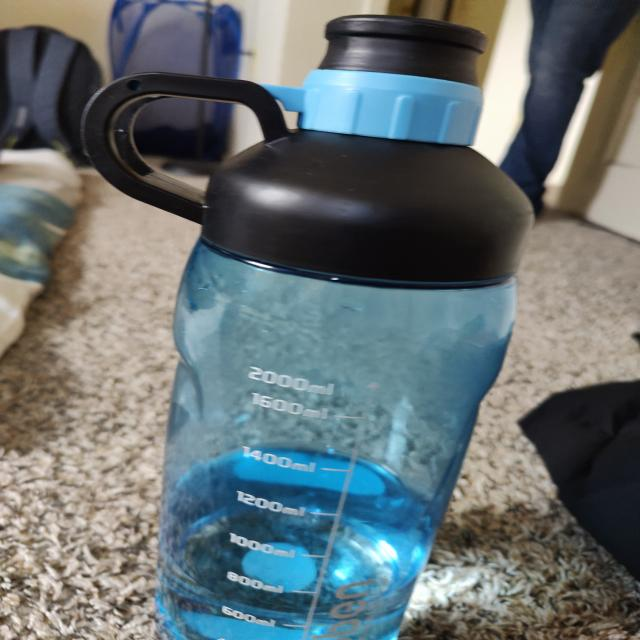bottle: (83, 13, 530, 628)
